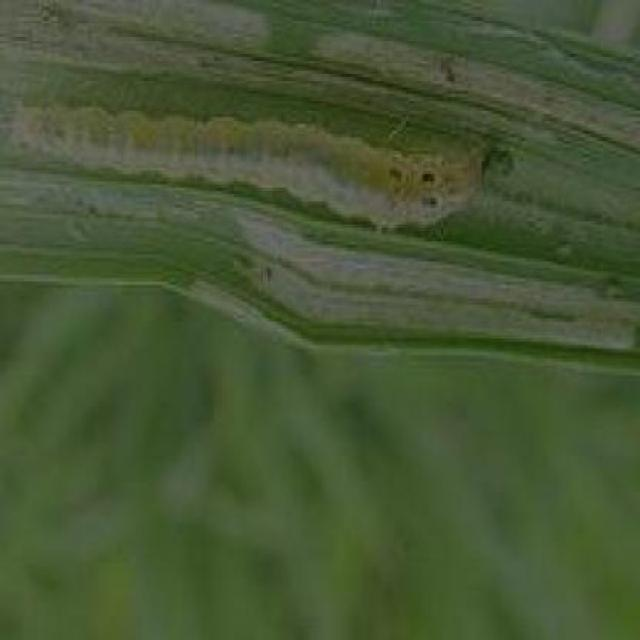leaf-folder: (9, 69, 560, 262)
